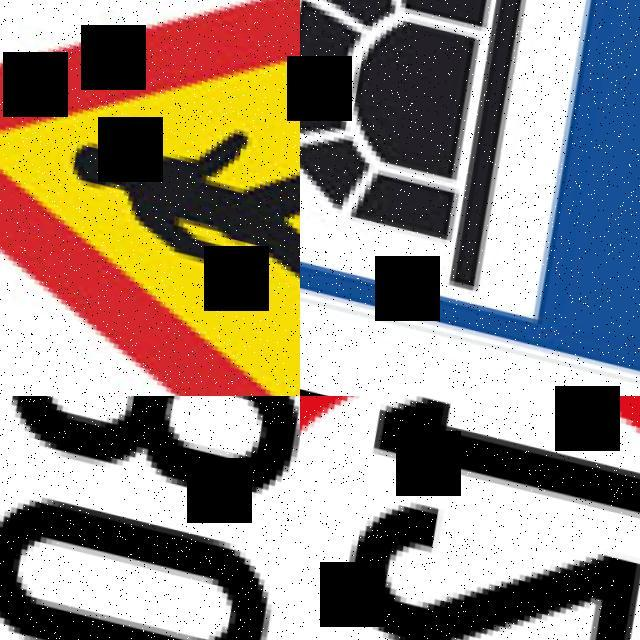167: (0, 0, 300, 396)
speed limit-80: (0, 396, 300, 640)
speed-limit-120: (300, 396, 640, 640)
tunnel in 2 km: (300, 0, 640, 396)
